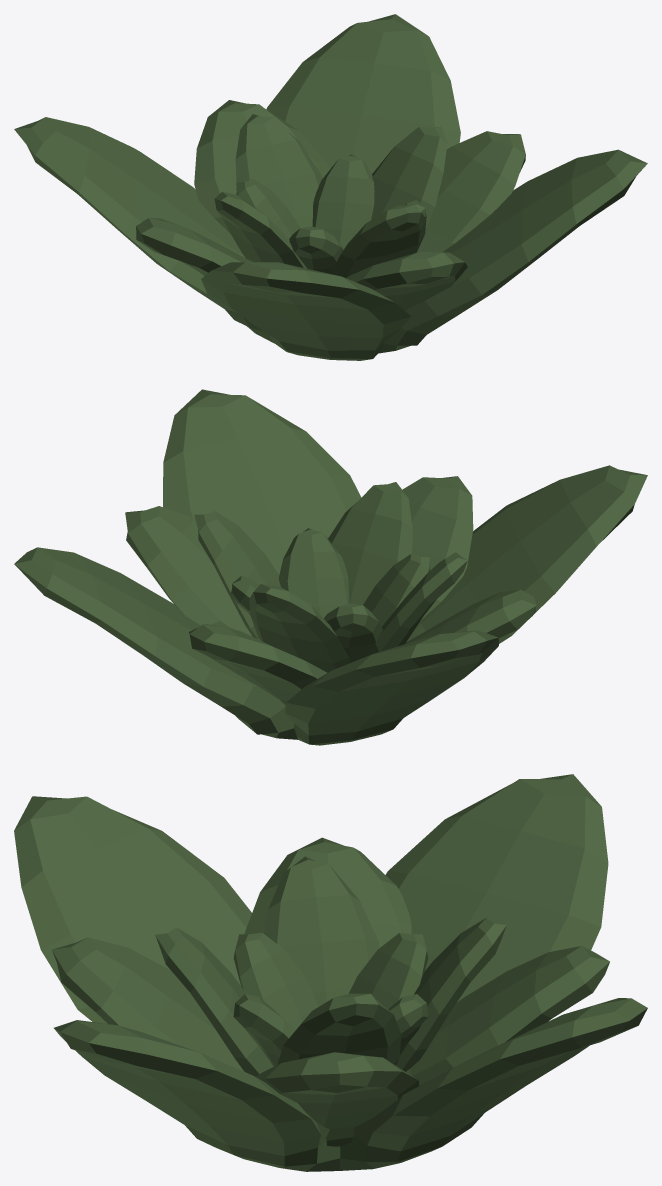
The model's file is CactusFlower_1.gltf.
The picture shows the model from 3 angles, top to bottom: view 1: azimuth 30°, elevation 25°; view 2: azimuth 150°, elevation 25°; view 3: azimuth 270°, elevation 25°; orthographic projection. The views are drawn at different scales.
Visible parts, largest first — view 1: CactusFlower_1; view 2: CactusFlower_1; view 3: CactusFlower_1.
Part boxes in pixels (x1=…): CactusFlower_1: x1=14, y1=14, x2=647, y2=360; CactusFlower_1: x1=14, y1=389, x2=647, y2=745; CactusFlower_1: x1=14, y1=774, x2=647, y2=1171.
Size of the model in its own units: 0.8819 by 0.3613 by 0.8683.
